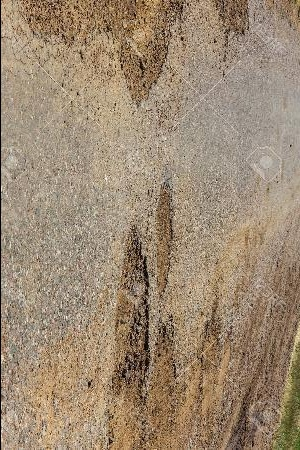pothole: (108, 0, 186, 108), (106, 228, 153, 402), (154, 178, 176, 295), (212, 0, 252, 40)
